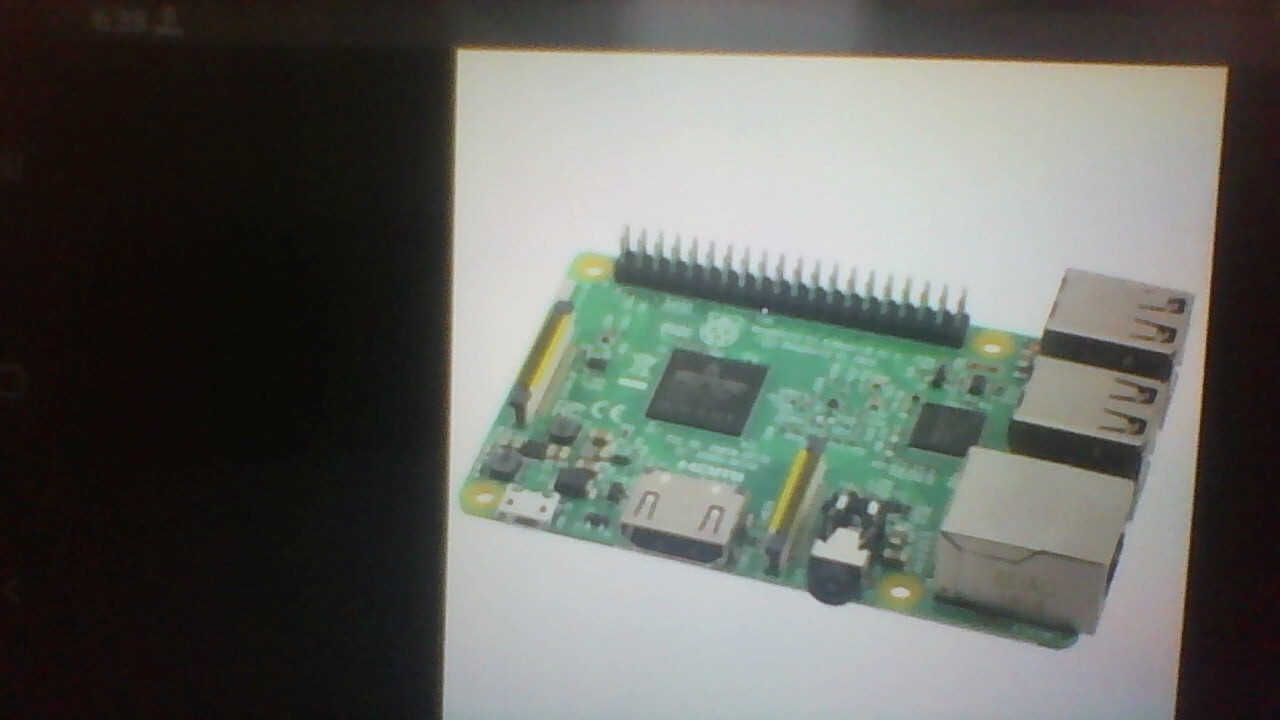aud: (809, 481, 876, 611)
eth: (940, 450, 1140, 634)
usb: (1020, 351, 1174, 465), (1039, 257, 1199, 361)
